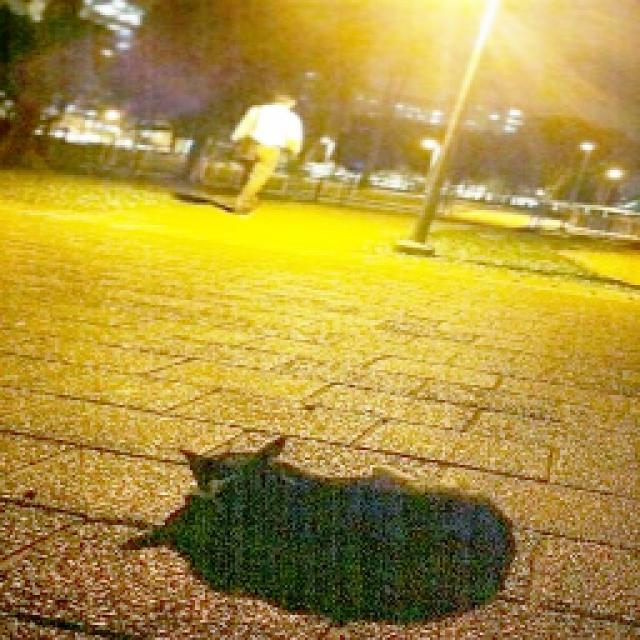cat: (176, 440, 518, 599)
